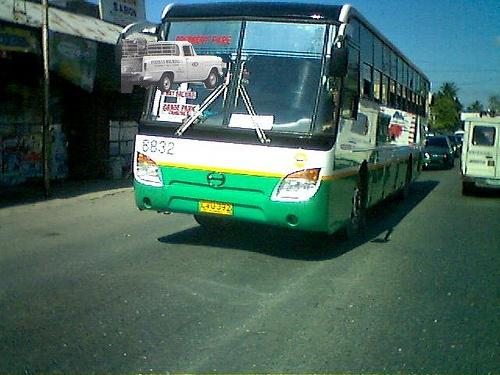tampered: (122, 38, 223, 93)
